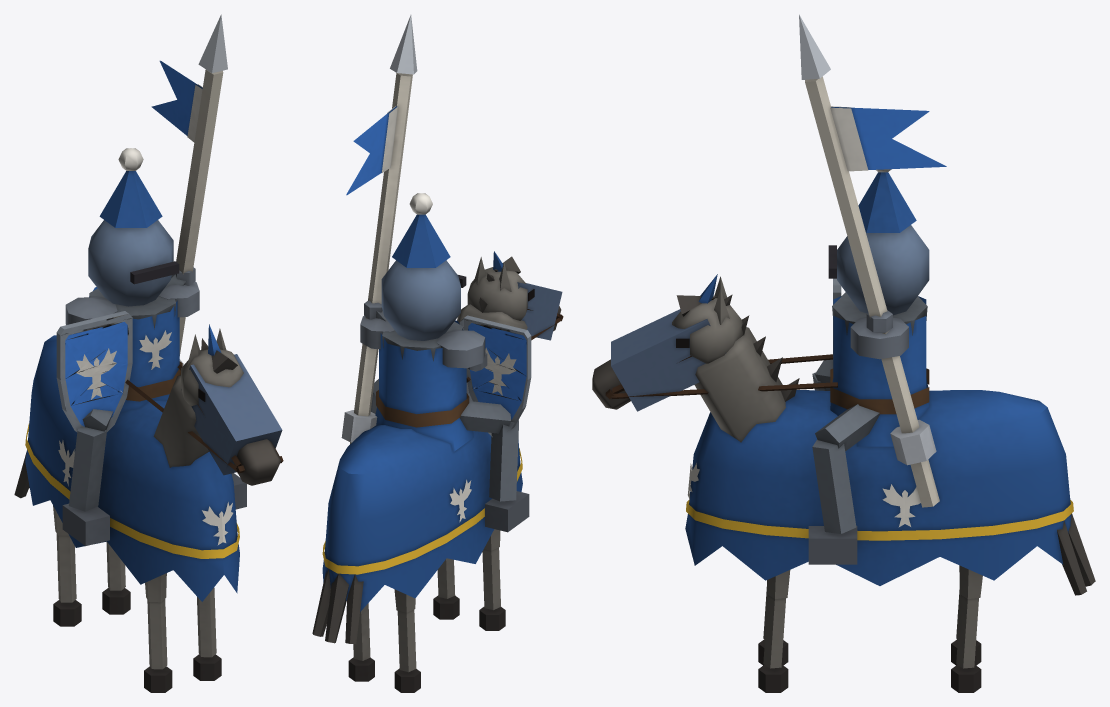
The model's file is assault_dl3_blue.glb.
The picture shows the model from 3 angles, left to right: view 1: azimuth 30°, elevation 25°; view 2: azimuth 150°, elevation 25°; view 3: azimuth 270°, elevation 25°; orthographic projection. The views are drawn at different scales.
Parts seen in each view (by area): view 1: assault_dl3_blue; view 2: assault_dl3_blue; view 3: assault_dl3_blue.
Boxes of the visible parts, left/top/right/bottom form: assault_dl3_blue: left=14, top=14, right=283, bottom=692; assault_dl3_blue: left=312, top=15, right=563, bottom=692; assault_dl3_blue: left=592, top=14, right=1095, bottom=692.
Size of the model in its own units: 0.2579 by 0.9039 by 0.6004.
1 material, 1 textured.
